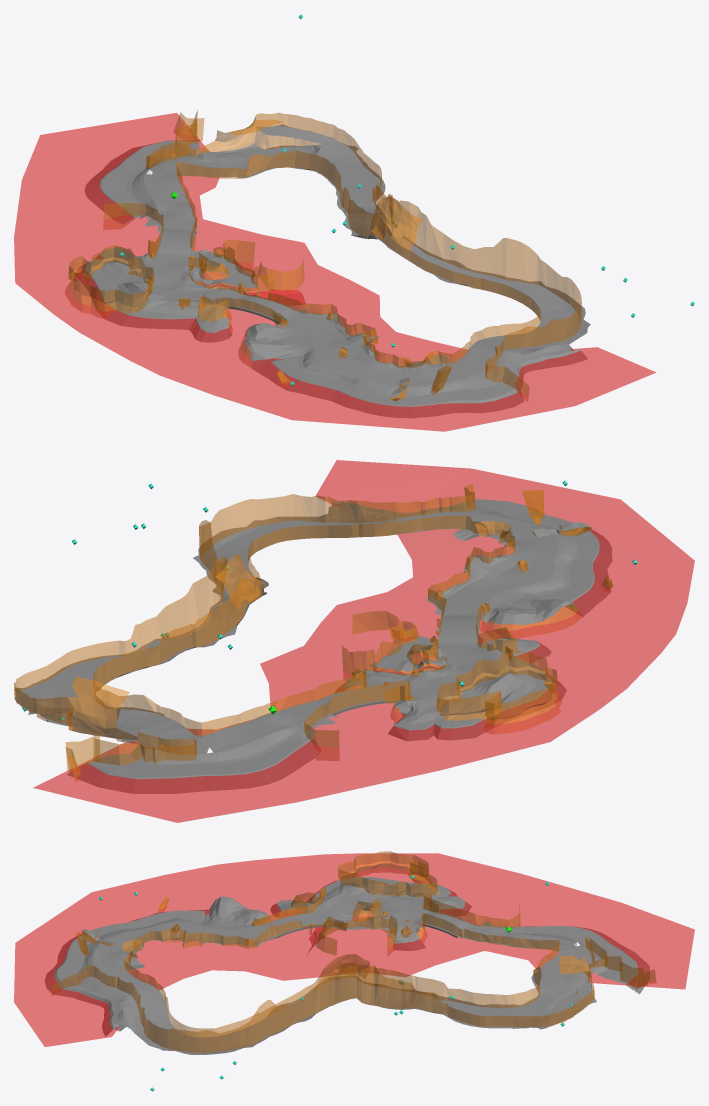
File: Inferno(Complete).obj
3 renders of one model, top to bottom at view 1: azimuth 30°, elevation 25°; view 2: azimuth 150°, elevation 25°; view 3: azimuth 270°, elevation 25°, orthographic. The views are drawn at different scales.
Visible parts, largest first — view 1: COL_groundreset01, COL_wall, COL_fastsandtrack, COL_watertrack, COL_slowsandtrack, COL_woodtrack, COL_rocktrack01, COL_fastgrasstrack; view 2: COL_groundreset01, COL_wall, COL_fastsandtrack, COL_watertrack, COL_slowsandtrack, COL_woodtrack, COL_rocktrack01, COL_fastgrasstrack, COL_rocktrack02; view 3: COL_groundreset01, COL_wall, COL_fastsandtrack, COL_slowsandtrack, COL_watertrack, COL_woodtrack, COL_rocktrack01, COL_fastgrasstrack, COL_rocktrack02.
Part boxes in pixels (<box>): COL_groundreset01: <box>14,113,655,431</box>; COL_wall: <box>65,110,581,401</box>; COL_fastsandtrack: <box>143,144,581,385</box>; COL_watertrack: <box>75,140,579,417</box>; COL_slowsandtrack: <box>93,145,590,397</box>; COL_woodtrack: <box>156,228,298,323</box>; COL_rocktrack01: <box>204,124,385,201</box>; COL_fastgrasstrack: <box>190,258,258,287</box>; COL_groundreset01: <box>33,460,694,822</box>; COL_wall: <box>14,483,613,781</box>; COL_fastsandtrack: <box>35,513,558,754</box>; COL_watertrack: <box>40,499,612,793</box>; COL_slowsandtrack: <box>103,500,590,768</box>; COL_woodtrack: <box>315,615,480,715</box>; COL_rocktrack01: <box>14,654,125,742</box>; COL_fastgrasstrack: <box>369,636,447,671</box>; COL_rocktrack02: <box>335,669,401,692</box>; COL_groundreset01: <box>14,853,694,1046</box>; COL_wall: <box>52,851,656,1052</box>; COL_fastsandtrack: <box>93,894,587,1052</box>; COL_slowsandtrack: <box>76,881,627,1054</box>; COL_watertrack: <box>45,877,649,1032</box>; COL_woodtrack: <box>262,911,474,938</box>; COL_rocktrack01: <box>444,972,596,1029</box>; COL_fastgrasstrack: <box>326,906,389,931</box>; COL_rocktrack02: <box>388,920,425,950</box>.
Size of the model in its own units: 421 by 130 by 558.
